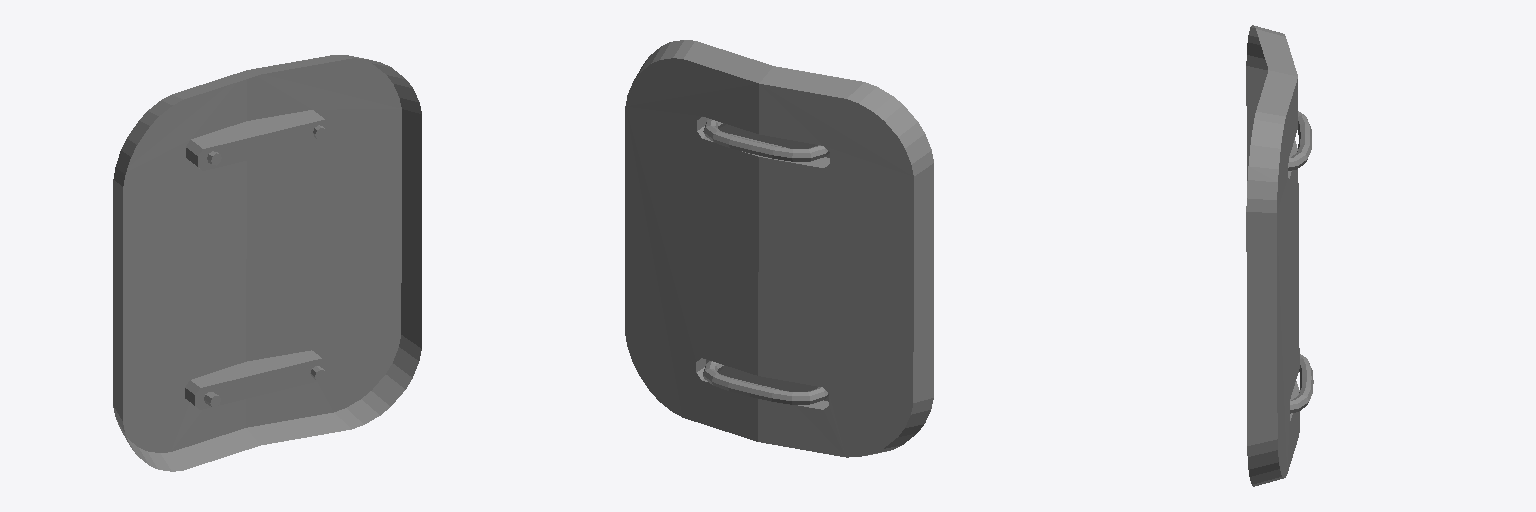
The model's file is Door-Crewed.obj.
3 renders of one model, left to right at view 1: azimuth 30°, elevation 25°; view 2: azimuth 150°, elevation 25°; view 3: azimuth 270°, elevation 25°, orthographic.
Visible parts, largest first — view 1: Door; view 2: Door; view 3: Door.
Part boxes in pixels (x1,y1,x2,y2): Door: (113, 55, 421, 471); Door: (625, 40, 933, 457); Door: (1246, 25, 1313, 486).
Bounding box in the file's own units: 10.28 × 12.21 × 2.